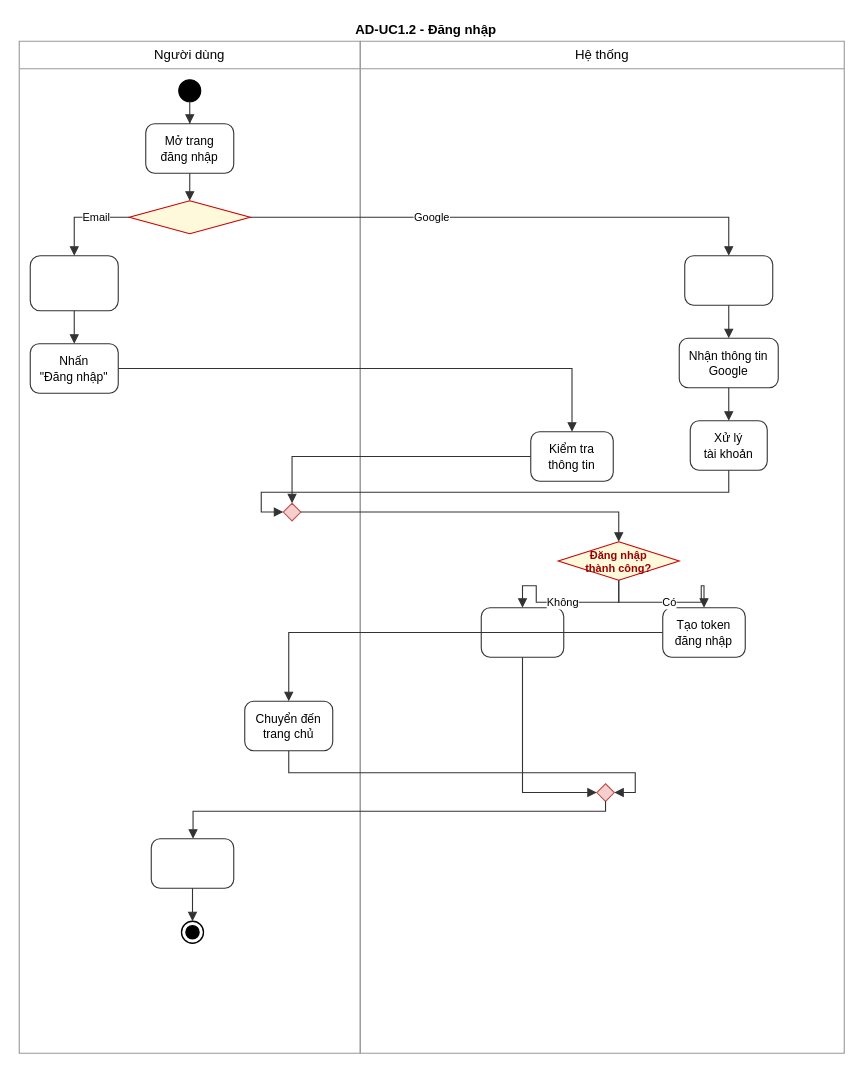
The diagram is 864 pixels wide and 1073 high, and some of its shapes have lost their labels. Each missing label, with the centre of its shape:
"Chuyển đến Google" goes at (728,280).
"Kết thúc đăng nhập" goes at (192,863).
"Nhập email và mật khẩu" goes at (73,283).
"Thông báo lỗi" goes at (522,632).
"Đăng nhập bằng?" goes at (189,217).
